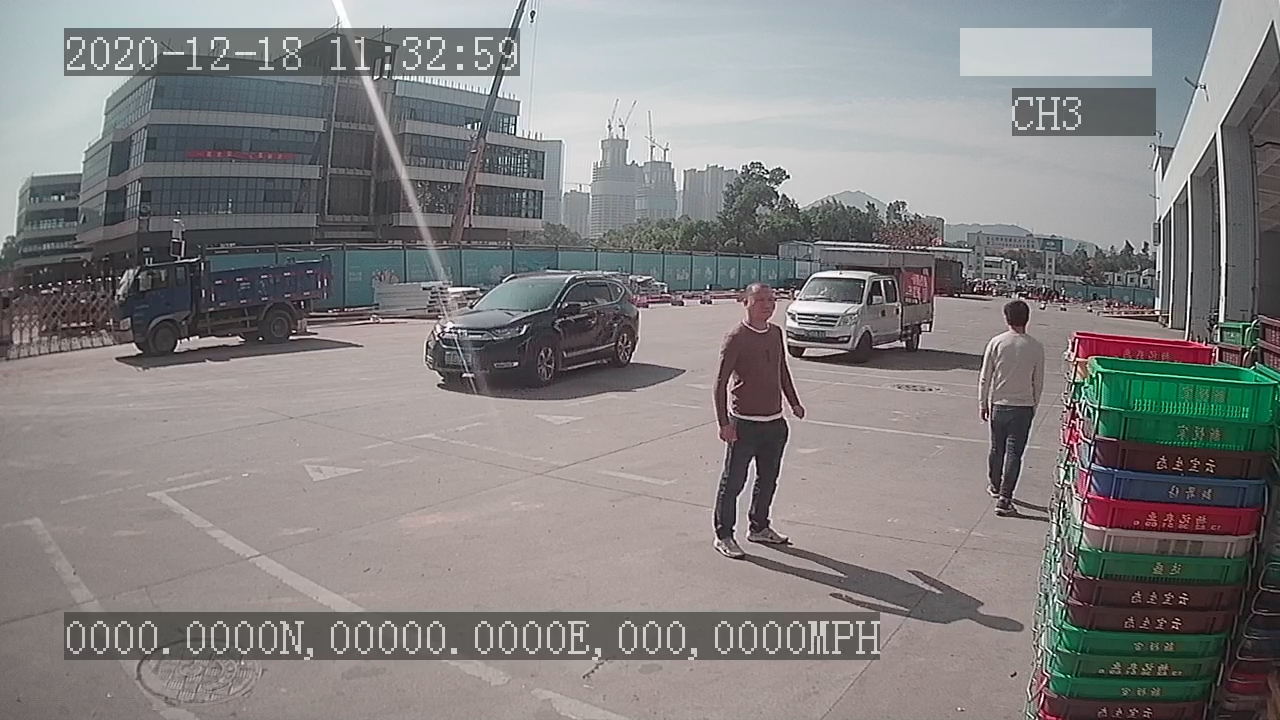person: (975, 299, 1047, 519)
